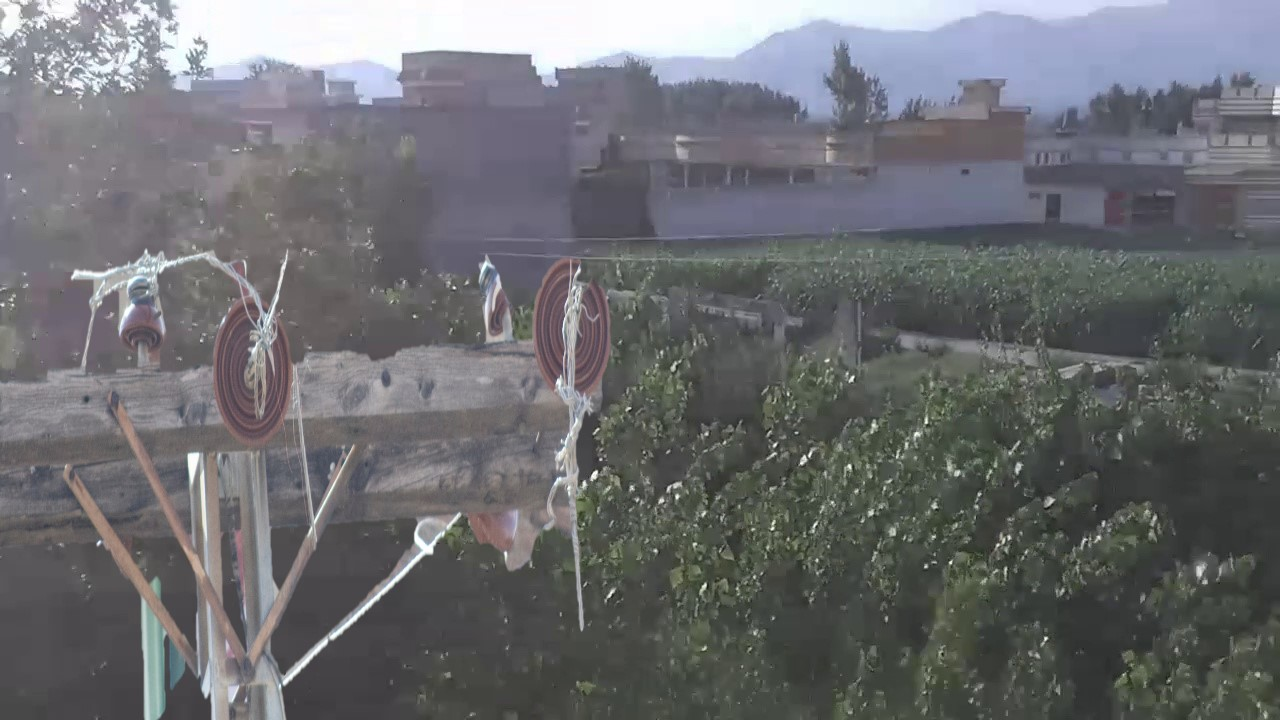defect_pin: (473, 249, 520, 348)
insulator_disc: (210, 290, 301, 453), (531, 252, 615, 400)
insulator_pin: (119, 269, 169, 364)
